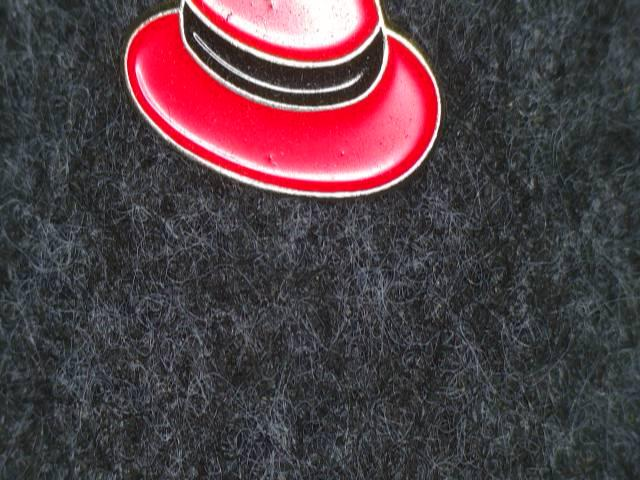Red-Hat: (105, 0, 477, 254)
